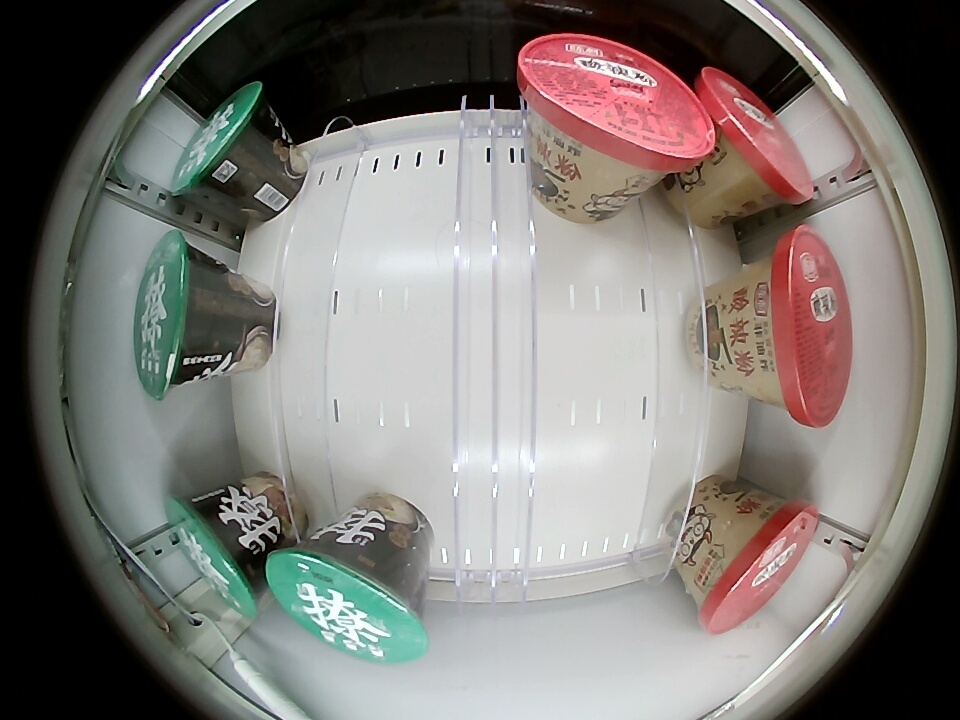liaomian: (266, 534, 428, 663), (135, 233, 219, 399), (166, 491, 265, 620), (171, 81, 272, 200)
suanlafen: (519, 33, 715, 183), (739, 229, 852, 426), (696, 495, 817, 635), (696, 66, 815, 208)
